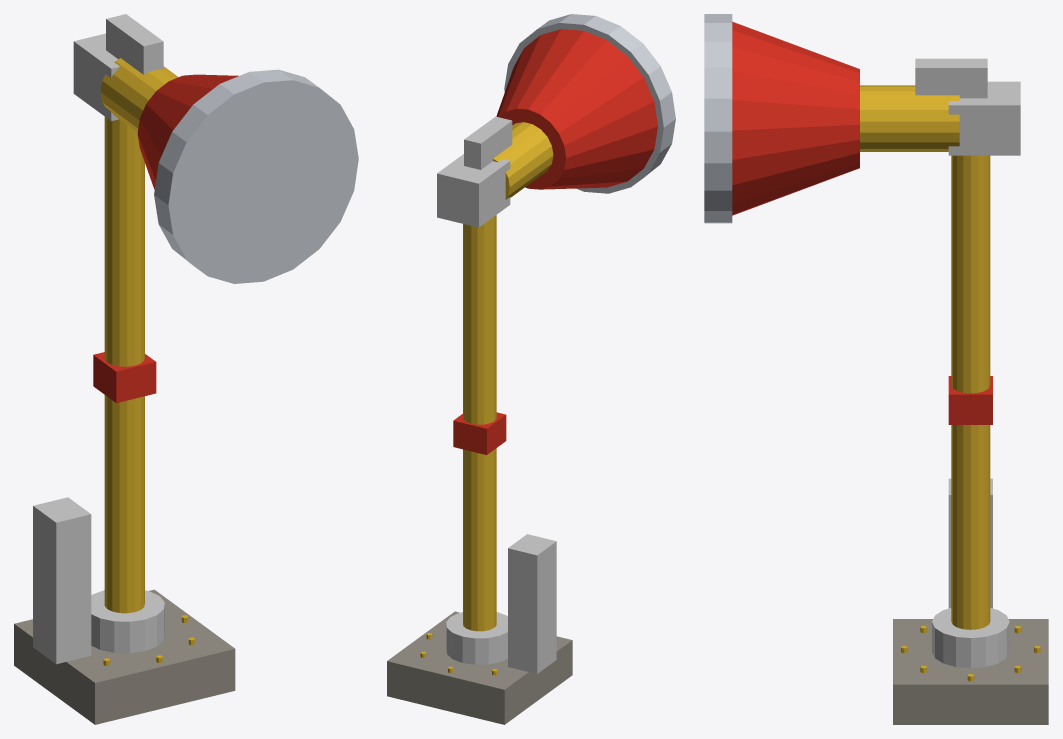
The model's file is nuclear_warning_siren.obj.
3 views of the same model, side by side, from view 1: azimuth 30°, elevation 25°; view 2: azimuth 150°, elevation 25°; view 3: azimuth 270°, elevation 25° (orthographic). The views are drawn at different scales.
Visible parts, largest first — view 1: nuclear_warning_siren; view 2: nuclear_warning_siren; view 3: nuclear_warning_siren.
Part boxes in pixels (x1,y1,x2,y2): nuclear_warning_siren: [14, 14, 358, 724]; nuclear_warning_siren: [387, 14, 675, 724]; nuclear_warning_siren: [704, 14, 1048, 724].
Size of the model in its own units: 0.76 by 2.66 by 1.24.
